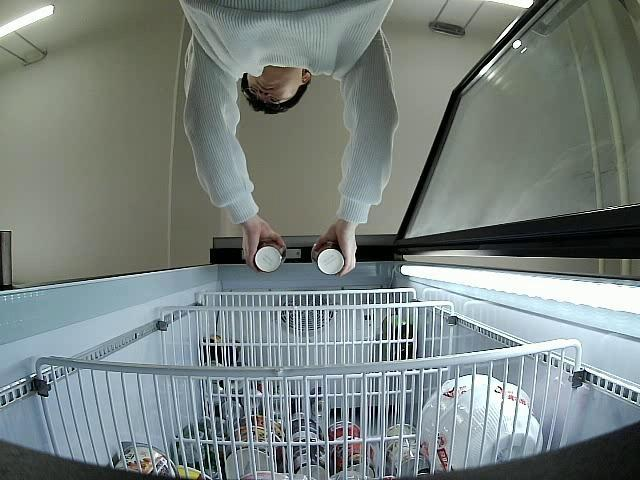06_nuguri_S: (251, 237, 286, 273), (312, 238, 344, 276)
